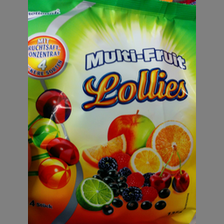candy: (27, 1, 194, 223)
